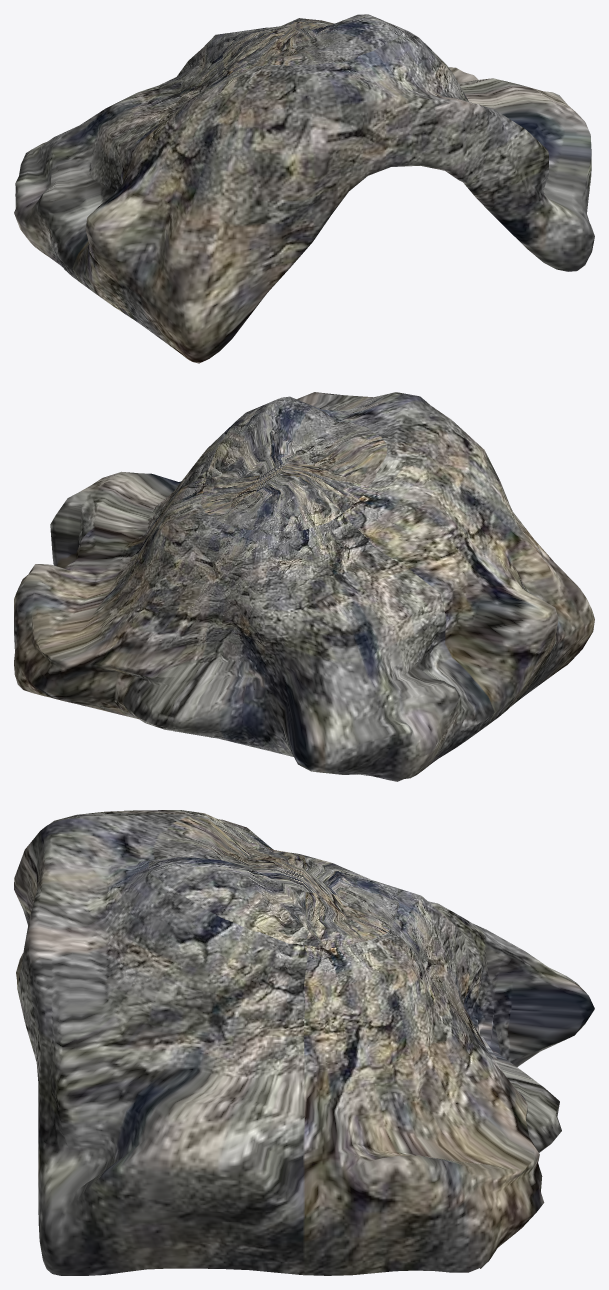
Rendered from Mont01.obj.
3 views of the same model, one above another, from view 1: azimuth 30°, elevation 25°; view 2: azimuth 150°, elevation 25°; view 3: azimuth 270°, elevation 25° (orthographic). The views are drawn at different scales.
Parts seen in each view (by area): view 1: polySurface1 pCube1; view 2: polySurface1 pCube1; view 3: polySurface1 pCube1.
Boxes of the visible parts, left/top/right/bottom form: polySurface1 pCube1: left=14, top=14, right=594, bottom=363; polySurface1 pCube1: left=14, top=392, right=594, bottom=781; polySurface1 pCube1: left=14, top=810, right=594, bottom=1275.
Bounding box in the file's own units: 538 × 260 × 431.
Materials: 1 (1 with a texture image).
